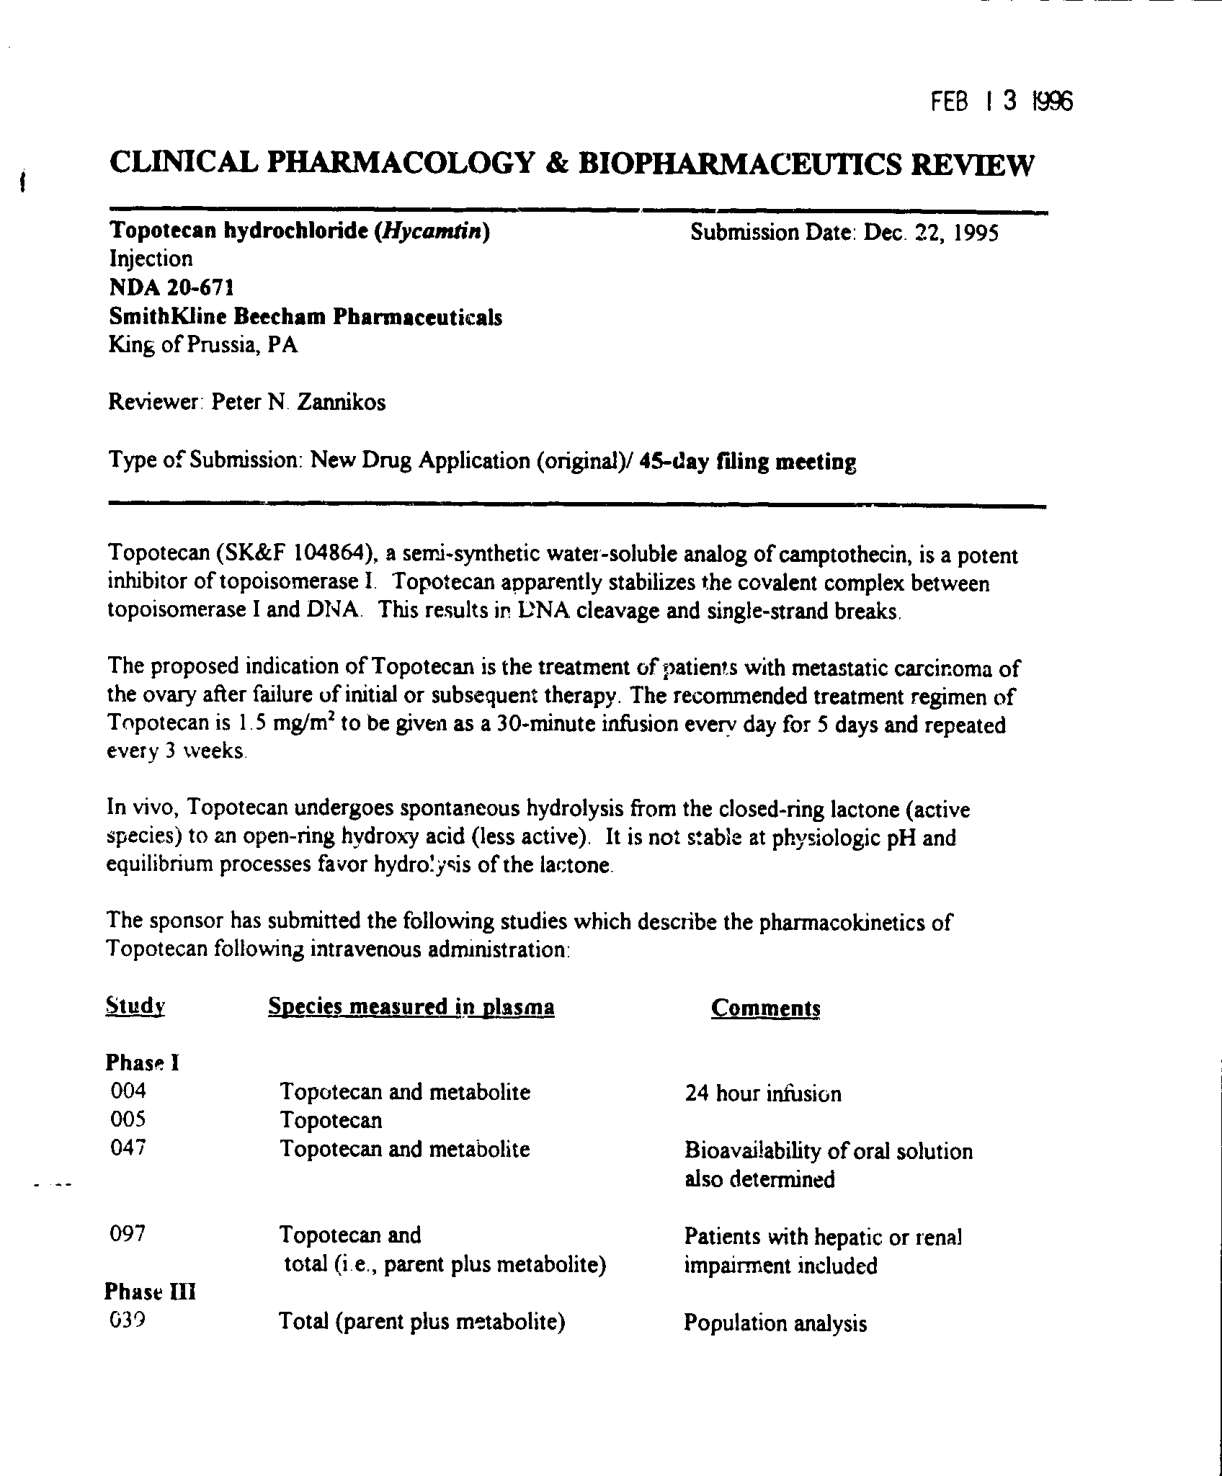nolines: (97, 991, 978, 1339)
